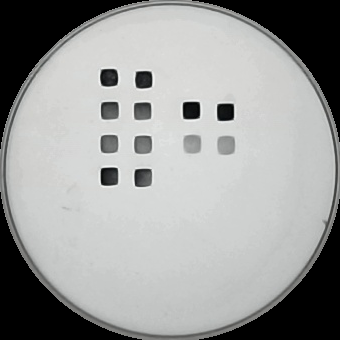检查点: (132, 132, 157, 157), (97, 165, 121, 190), (181, 133, 205, 157), (132, 166, 156, 190), (98, 131, 121, 156), (216, 134, 239, 158), (214, 102, 239, 124), (133, 69, 155, 91), (132, 100, 154, 122), (180, 100, 203, 121), (98, 67, 120, 88), (100, 100, 120, 121)
